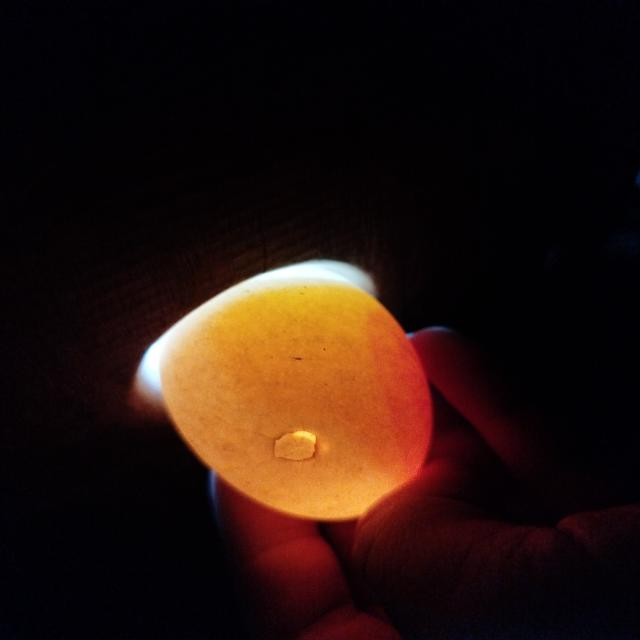Gema Quebrada: (369, 302, 433, 484)
Rachadura: (274, 430, 316, 460)
